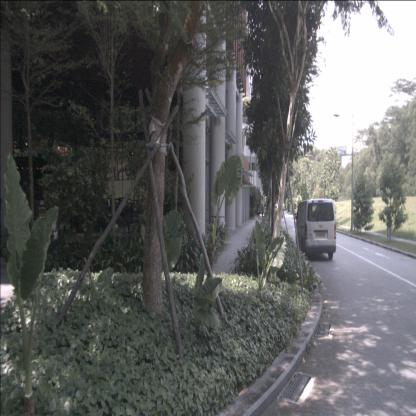vehicle-car: (296, 198, 336, 260), (278, 208, 284, 218), (273, 204, 277, 212)
